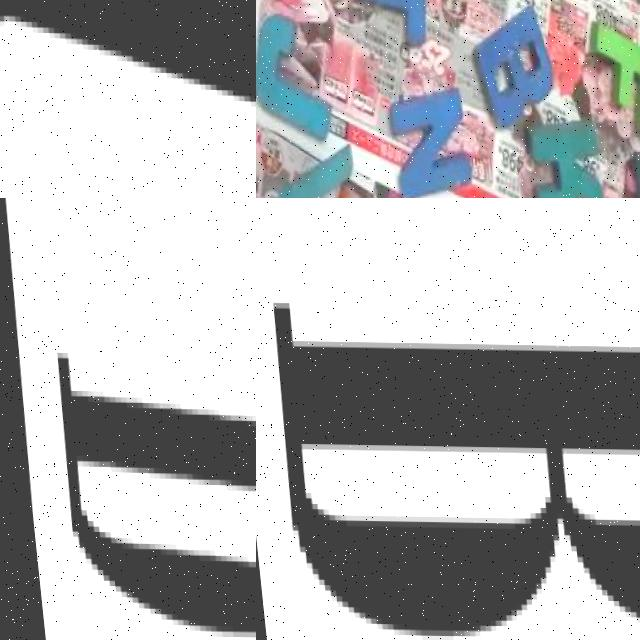1: (0, 0, 256, 191)
B: (269, 301, 640, 635), (53, 351, 256, 635), (461, 4, 544, 125)
D: (616, 150, 640, 198)
F: (575, 23, 640, 140)
J: (256, 16, 326, 147)
K: (512, 126, 593, 198)
N: (374, 84, 464, 194)
T: (338, 0, 427, 48)
V: (261, 145, 352, 198)
